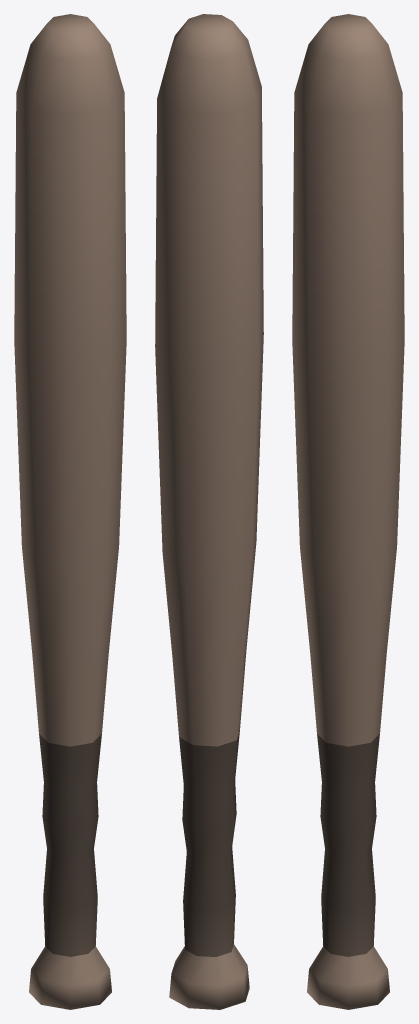
File: baseball_bat.gltf
The picture shows the model from 3 angles, left to right: view 1: azimuth 90°, elevation 25°; view 2: azimuth 150°, elevation 25°; view 3: azimuth 270°, elevation 25°; orthographic projection.
Parts seen in each view (by area): view 1: Baseball_Bat; view 2: Baseball_Bat; view 3: Baseball_Bat.
Boxes of the visible parts, x1=… form: Baseball_Bat: x1=14, y1=14, x2=126, y2=1009; Baseball_Bat: x1=155, y1=14, x2=263, y2=1009; Baseball_Bat: x1=292, y1=14, x2=404, y2=1009.
Size of the model in its own units: 0.1266 by 1.2 by 0.1266.
